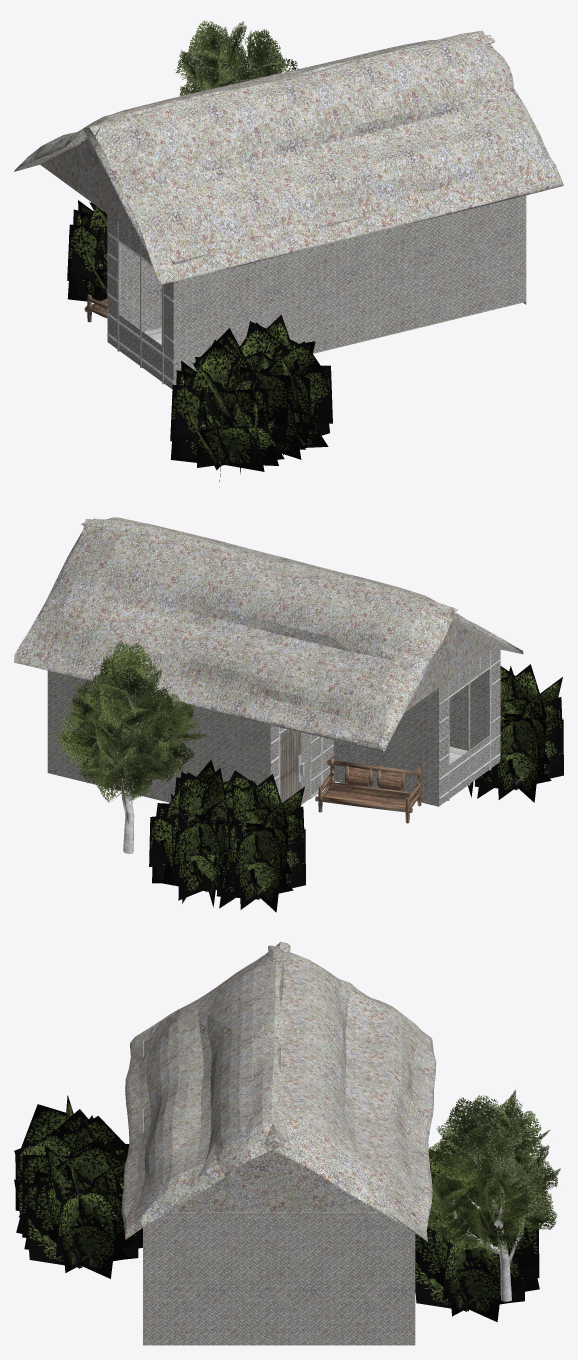
File: fwefaw.obj
3 renders of one model, top to bottom at view 1: azimuth 30°, elevation 25°; view 2: azimuth 150°, elevation 25°; view 3: azimuth 270°, elevation 25°, orthographic. The views are drawn at different scales.
Parts seen in each view (by area): view 1: Meshpart2, LongWall6, LongWall1, Bush2, Leaves1, Meshpart1, Bush1, Wall1, Wall6, Wedge3, MidTile2, MidTile1 (+7 smaller); view 2: Meshpart1, Bush1, Leaves1, Wall8, Wall9, Bush2, Wall1, Wall2, Meshpart2, KursiTradisionalGroup1, LongWall1, LongWall2 (+16 smaller); view 3: Wall15, Wall20, Meshpart1, Meshpart2, Bush2, Leaves1, Bush1, Wedge4, Wedge2, Trunk1.
Part boxes in pixels (x1,y1,x2,y2): Meshpart2: [83, 30, 563, 284]; LongWall6: [173, 195, 525, 384]; LongWall1: [173, 196, 525, 384]; Bush2: [170, 315, 332, 481]; Leaves1: [174, 20, 298, 95]; Meshpart1: [14, 34, 495, 171]; Bush1: [67, 200, 107, 301]; Wall1: [107, 244, 161, 341]; Wall6: [120, 244, 161, 331]; Wedge3: [40, 139, 107, 213]; MidTile2: [108, 309, 172, 389]; MidTile1: [108, 309, 173, 389]; Meshpart1: [14, 519, 457, 751]; Bush1: [149, 760, 305, 912]; Leaves1: [54, 641, 207, 802]; Wall8: [48, 671, 269, 802]; Wall9: [48, 671, 269, 802]; Bush2: [468, 664, 563, 802]; Wall1: [334, 688, 439, 806]; Wall2: [334, 688, 438, 806]; Meshpart2: [80, 517, 523, 654]; KursiTradisionalGroup1: [315, 756, 424, 823]; LongWall1: [449, 646, 500, 758]; LongWall2: [449, 670, 488, 750]; Wall15: [143, 1212, 415, 1345]; Wall20: [143, 1212, 415, 1345]; Meshpart1: [265, 945, 436, 1241]; Meshpart2: [121, 941, 290, 1239]; Bush2: [14, 1095, 142, 1278]; Leaves1: [426, 1090, 560, 1262]; Bush1: [415, 1149, 539, 1322]; Wedge4: [169, 1149, 276, 1212]; Wedge2: [277, 1152, 412, 1212]; Trunk1: [453, 1133, 526, 1301].
Bounding box in the file's own units: 42.43 × 27.66 × 48.36.
12 materials, 12 textured.
